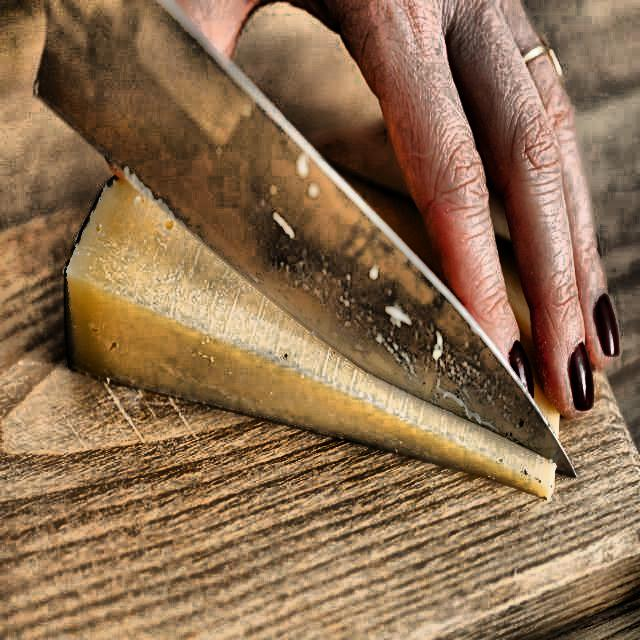knife: (30, 0, 578, 490)
